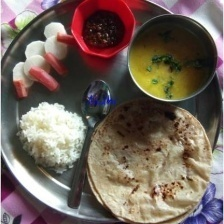roti: (86, 98, 213, 224)
